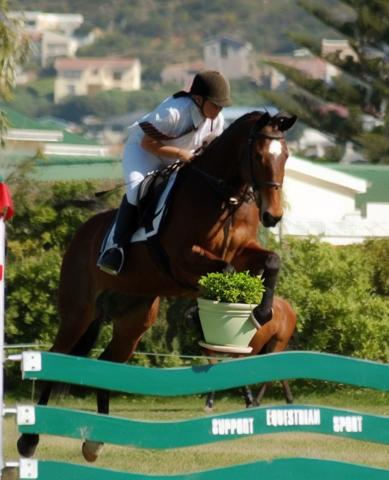horse: (17, 69, 302, 466), (204, 288, 298, 410)
person: (94, 70, 236, 278)
pottedplant: (195, 269, 267, 355)
